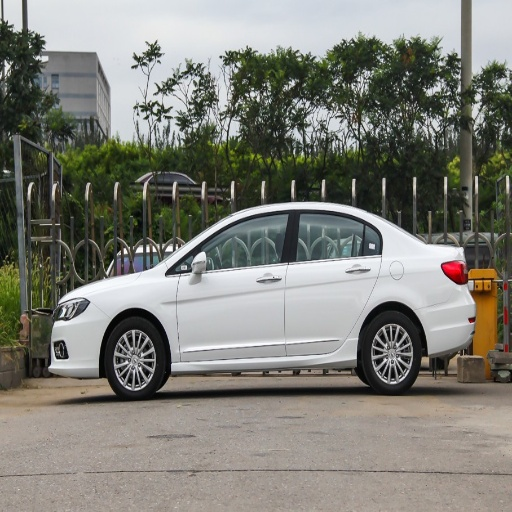back_left_door: (286, 209, 382, 353)
front_left_door: (179, 209, 292, 359)
